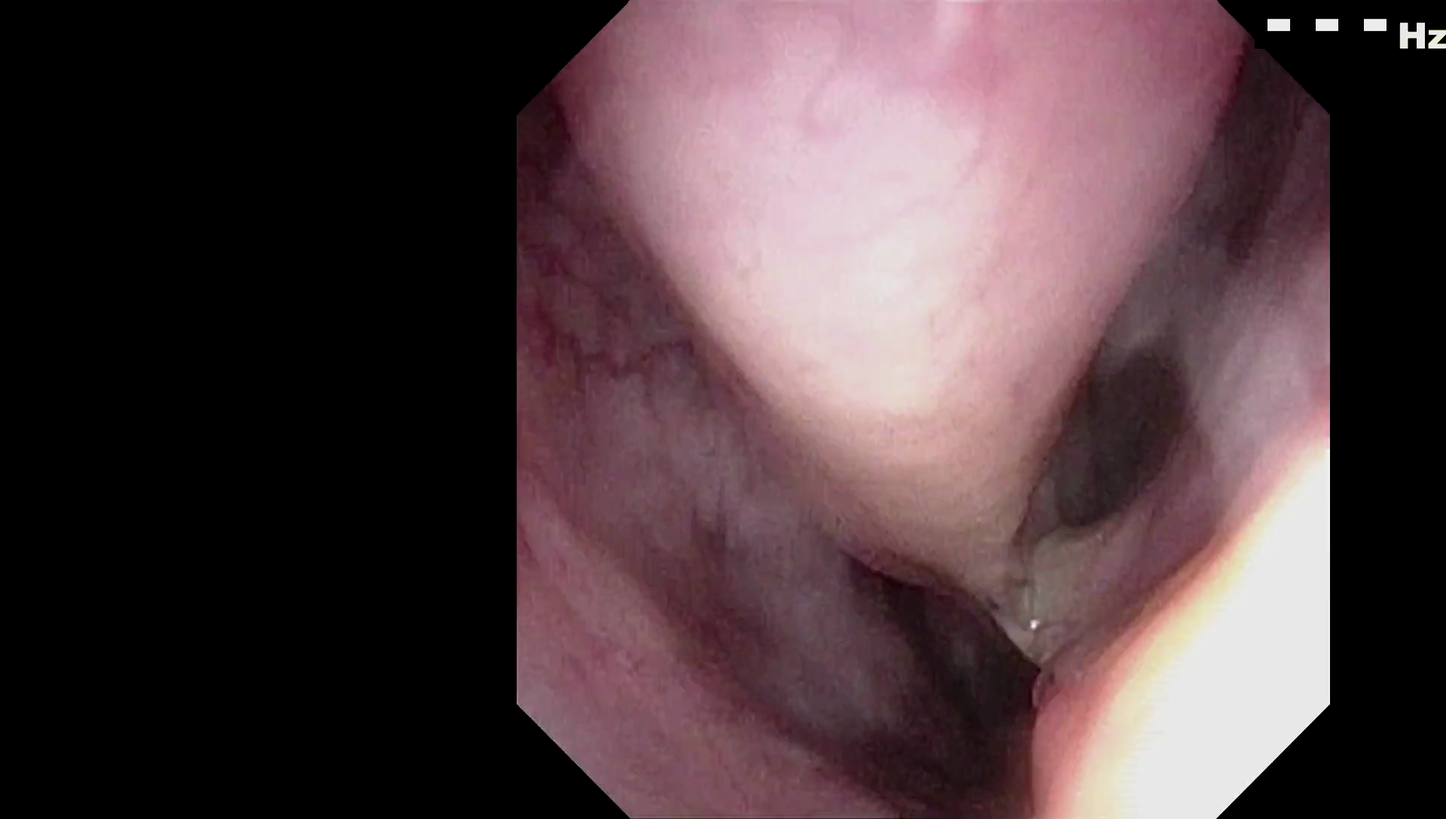close_wall: (636, 62, 1022, 495), (1043, 485, 1329, 812)
next: (996, 291, 1211, 584), (840, 523, 1052, 817)
